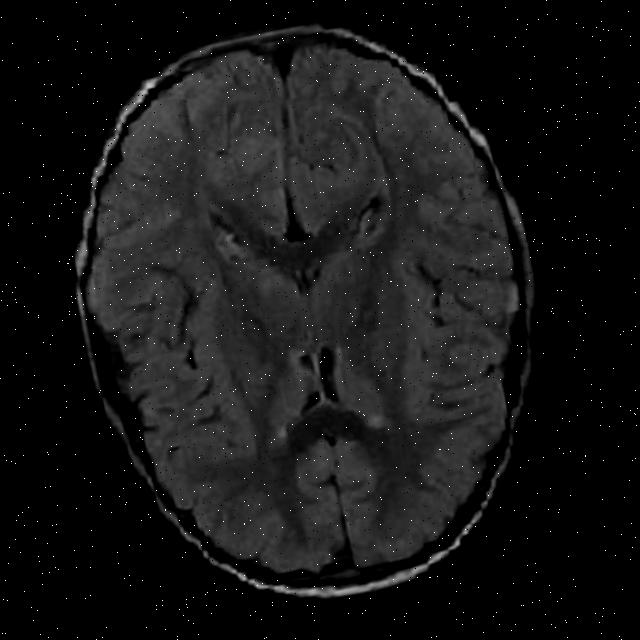NoTumor: (38, 0, 578, 620)
